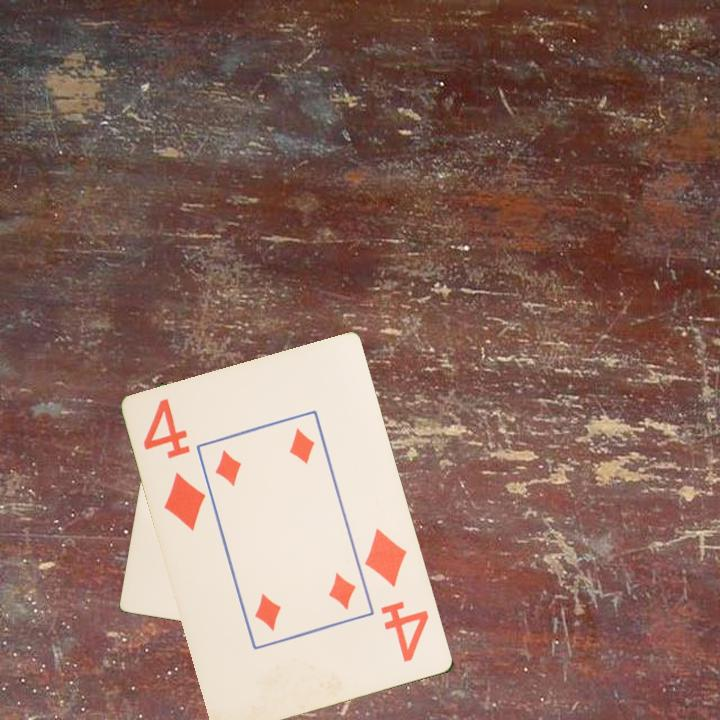4d: (361, 525, 432, 666), (140, 395, 209, 534)
